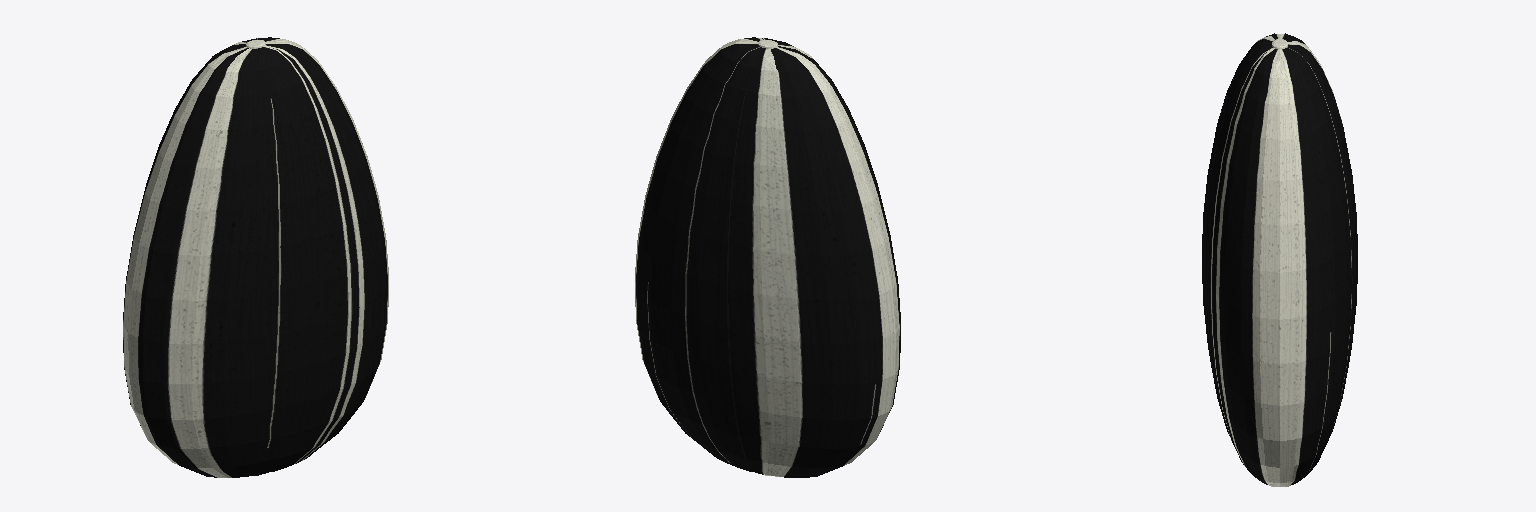
3 views of the same model, side by side, from view 1: azimuth 30°, elevation 25°; view 2: azimuth 150°, elevation 25°; view 3: azimuth 270°, elevation 25° (orthographic).
Size of the model in its own units: 1.82 by 2.9 by 0.965.
Materials: 1 (1 with a texture image).